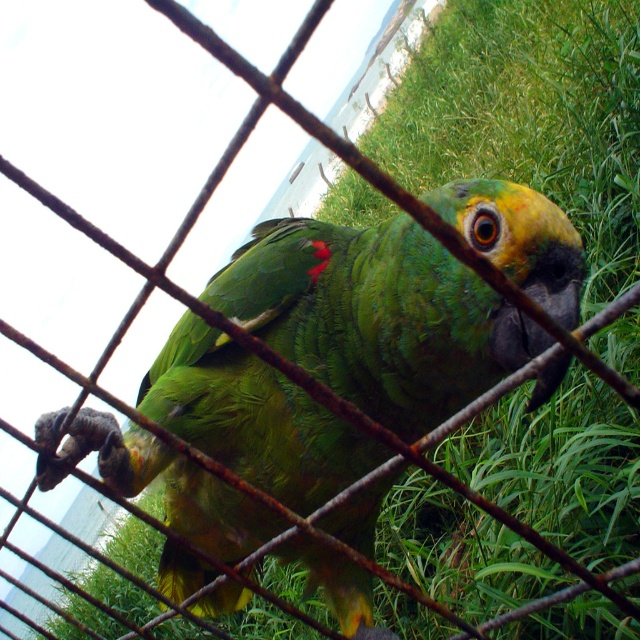Parrot: (34, 179, 586, 640)
